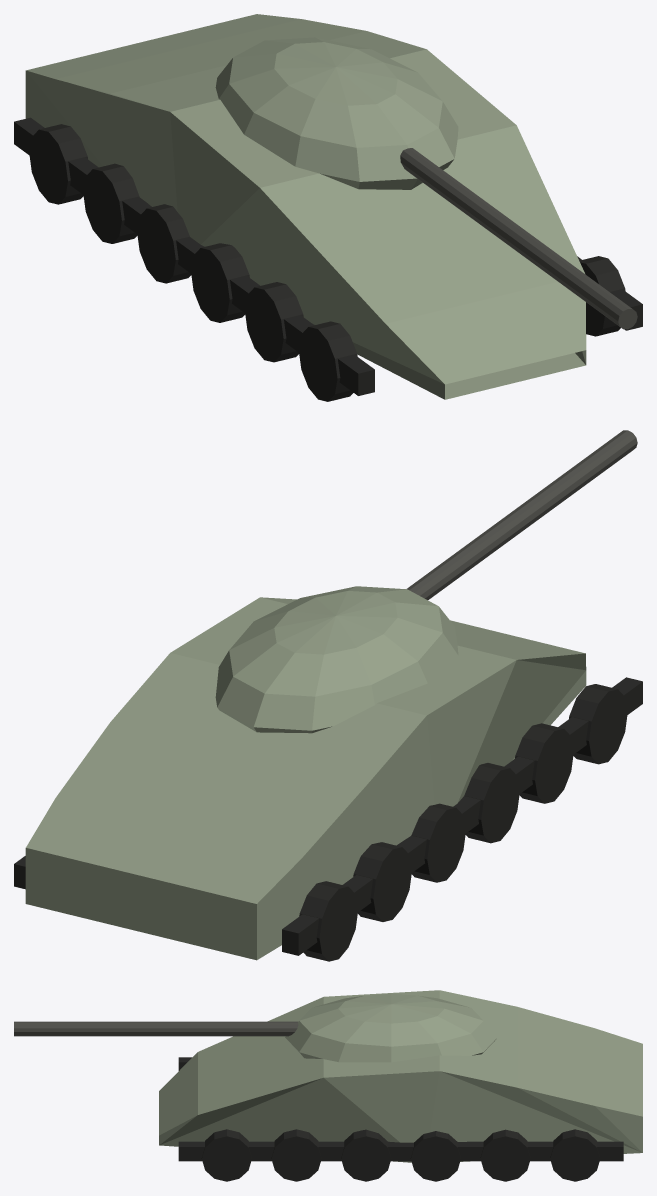
File: mlrs.glb
The picture shows the model from 3 angles, top to bottom: view 1: azimuth 30°, elevation 25°; view 2: azimuth 150°, elevation 25°; view 3: azimuth 270°, elevation 25°; orthographic projection. The views are drawn at different scales.
Parts seen in each view (by area): view 1: Hull, Turret, Gun, Track_L, Wheel_L_02, Wheel_L_06, Wheel_L_01, Wheel_L_03, Wheel_L_05, Wheel_L_04, Wheel_R_01; view 2: Hull, Turret, Gun, Track_L, Wheel_L_06, Wheel_L_02, Wheel_L_01, Wheel_L_05, Wheel_L_03, Wheel_L_04; view 3: Hull, Turret, Gun, Track_R, Wheel_R_02, Wheel_R_01, Wheel_R_06, Wheel_R_05, Wheel_R_03, Wheel_R_04.
Boxes of the visible parts, x1,y1,x2,y2 form: Hull: [25, 14, 586, 399]; Turret: [215, 37, 458, 189]; Gun: [400, 148, 637, 329]; Track_L: [14, 117, 374, 395]; Wheel_L_02: [245, 282, 303, 362]; Wheel_L_06: [29, 124, 87, 204]; Wheel_L_01: [298, 321, 357, 401]; Wheel_L_03: [191, 243, 249, 322]; Wheel_L_05: [83, 163, 139, 243]; Wheel_L_04: [137, 204, 191, 283]; Wheel_R_01: [579, 256, 625, 336]; Hull: [25, 597, 586, 960]; Turret: [215, 586, 458, 733]; Gun: [406, 430, 637, 599]; Track_L: [282, 677, 642, 955]; Wheel_L_06: [299, 881, 358, 961]; Wheel_L_02: [515, 723, 573, 803]; Wheel_L_01: [569, 684, 627, 764]; Wheel_L_05: [353, 842, 411, 921]; Wheel_L_03: [464, 763, 519, 843]; Wheel_L_04: [411, 803, 465, 882]; Hull: [159, 990, 642, 1162]; Turret: [285, 993, 497, 1062]; Gun: [14, 1021, 298, 1036]; Track_R: [178, 1141, 623, 1161]; Wheel_R_02: [271, 1129, 321, 1181]; Wheel_R_01: [201, 1129, 251, 1181]; Wheel_R_06: [550, 1129, 600, 1181]; Wheel_R_05: [480, 1129, 530, 1181]; Wheel_R_03: [341, 1129, 391, 1181]; Wheel_R_04: [410, 1131, 460, 1181].
Size of the model in its own units: 3.09 by 2.07 by 8.97.
